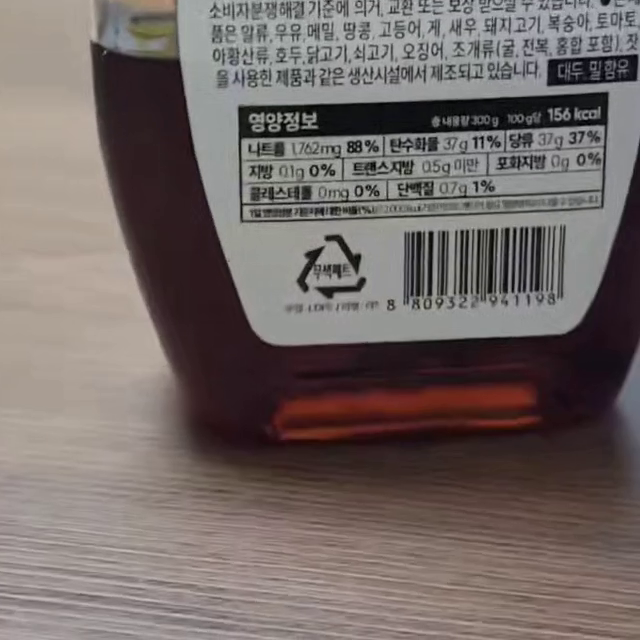ColorlessPet: (296, 233, 369, 300)
